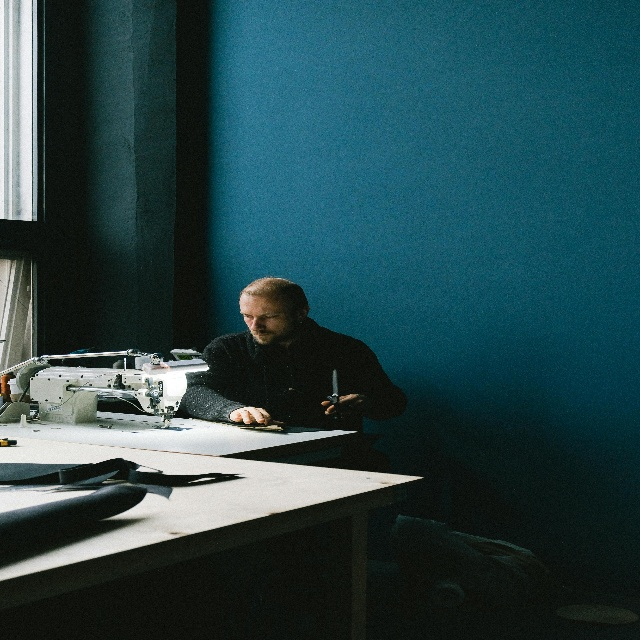Sin_guantes: (230, 405, 285, 426), (321, 392, 366, 416)
